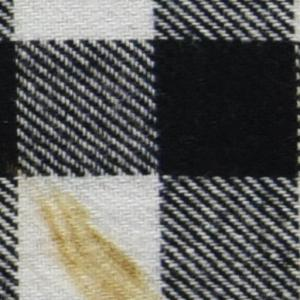Oil Stain: (25, 174, 165, 300)
